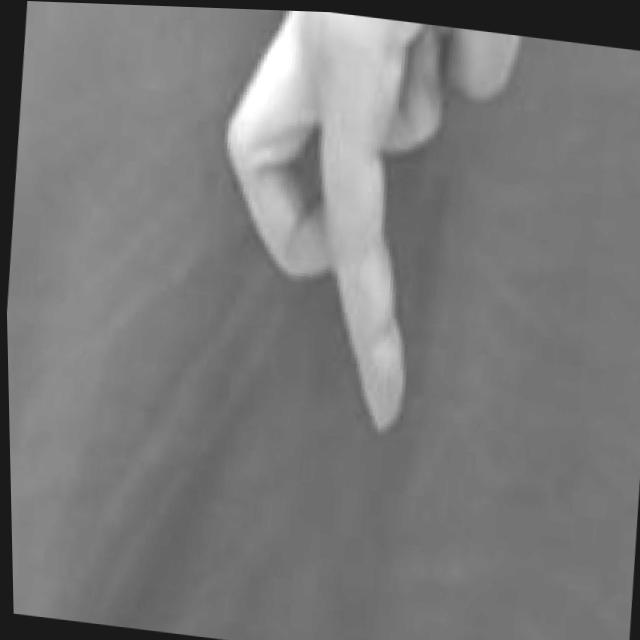P: (191, 7, 541, 451)
